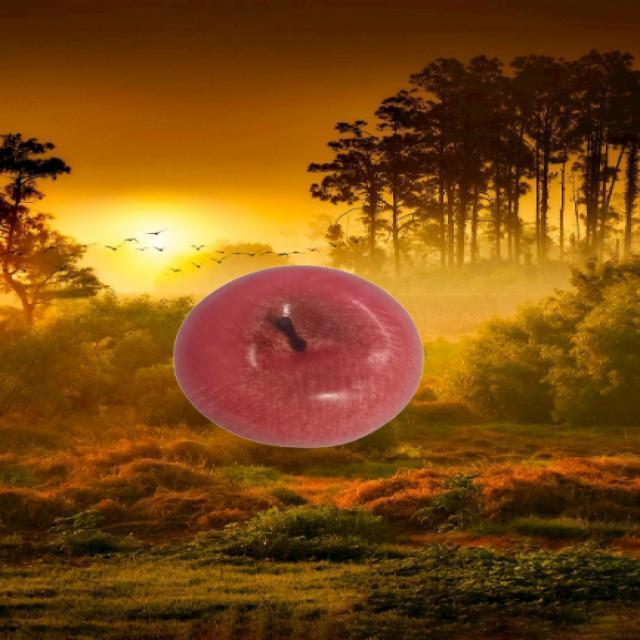apple: (172, 264, 425, 450)
